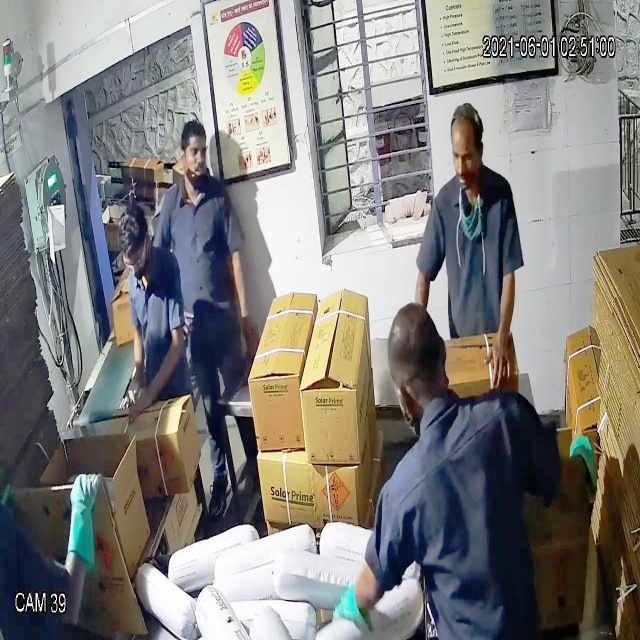Gafas: (114, 237, 150, 276)
Sin_gafas: (446, 138, 485, 176)
